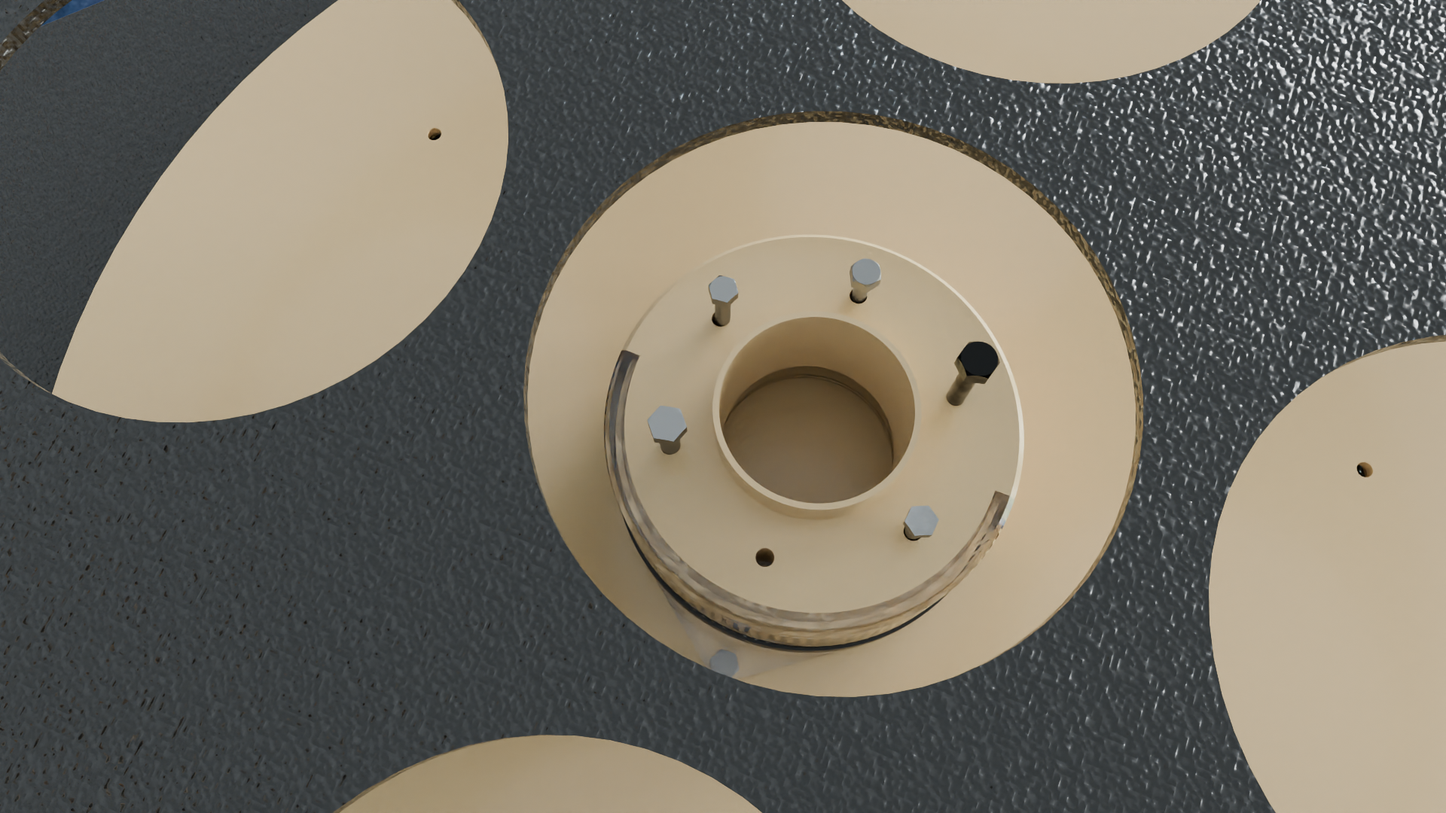bolt: (957, 341, 1000, 379), (648, 406, 687, 442), (905, 506, 939, 536), (851, 258, 881, 288), (709, 276, 738, 303)
